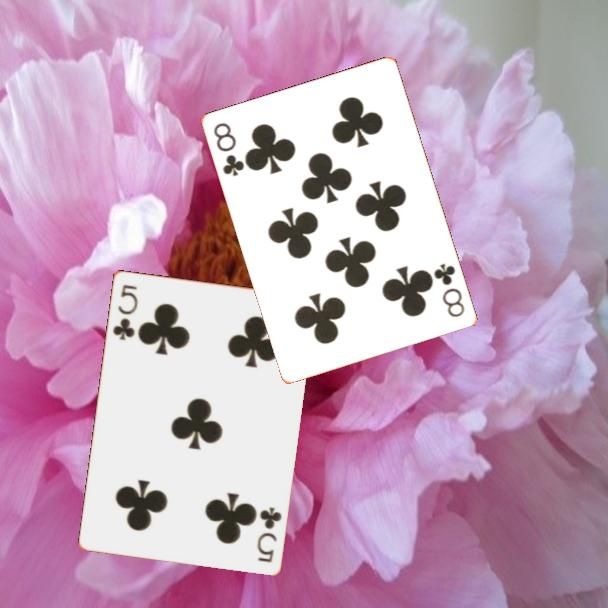c05: (109, 281, 140, 343), (253, 503, 284, 565)
c08: (431, 260, 468, 320), (210, 119, 247, 179)
